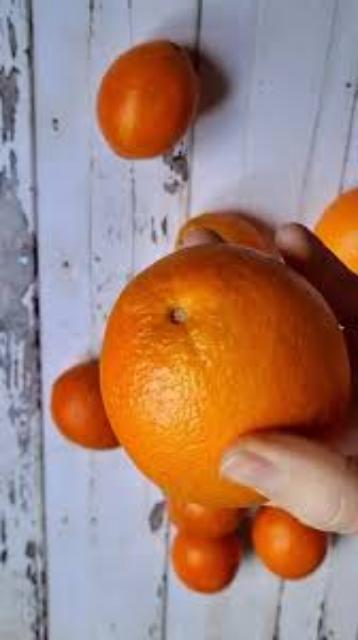Oranges: (102, 248, 350, 508)
